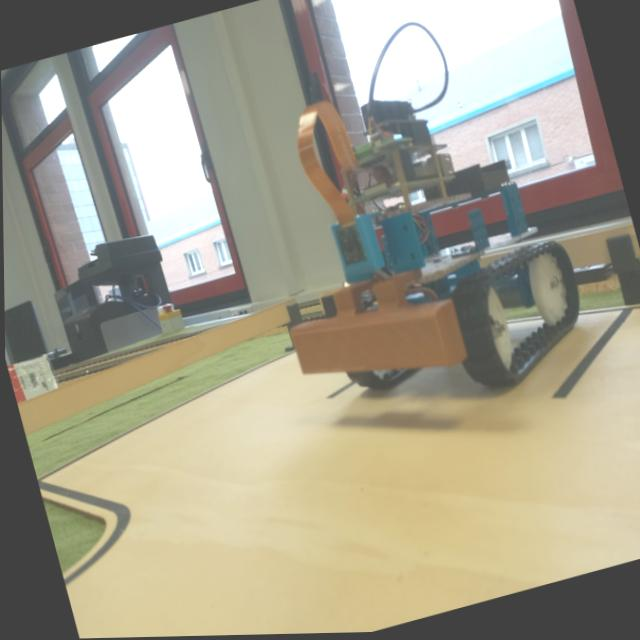obstacle_voiture: (224, 42, 613, 448)
